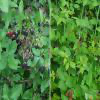Raspberry leaf: (7, 54, 20, 71), (6, 39, 18, 57), (10, 84, 23, 100), (27, 55, 40, 67), (0, 51, 8, 70), (0, 0, 9, 14), (19, 0, 24, 17)
